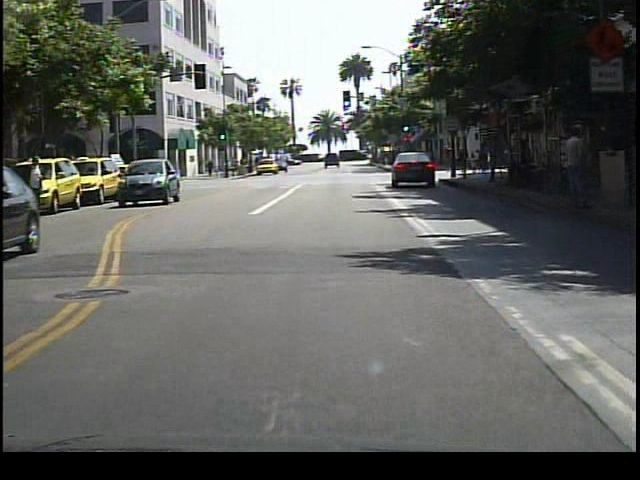person: (561, 124, 595, 216), (23, 148, 48, 218)
